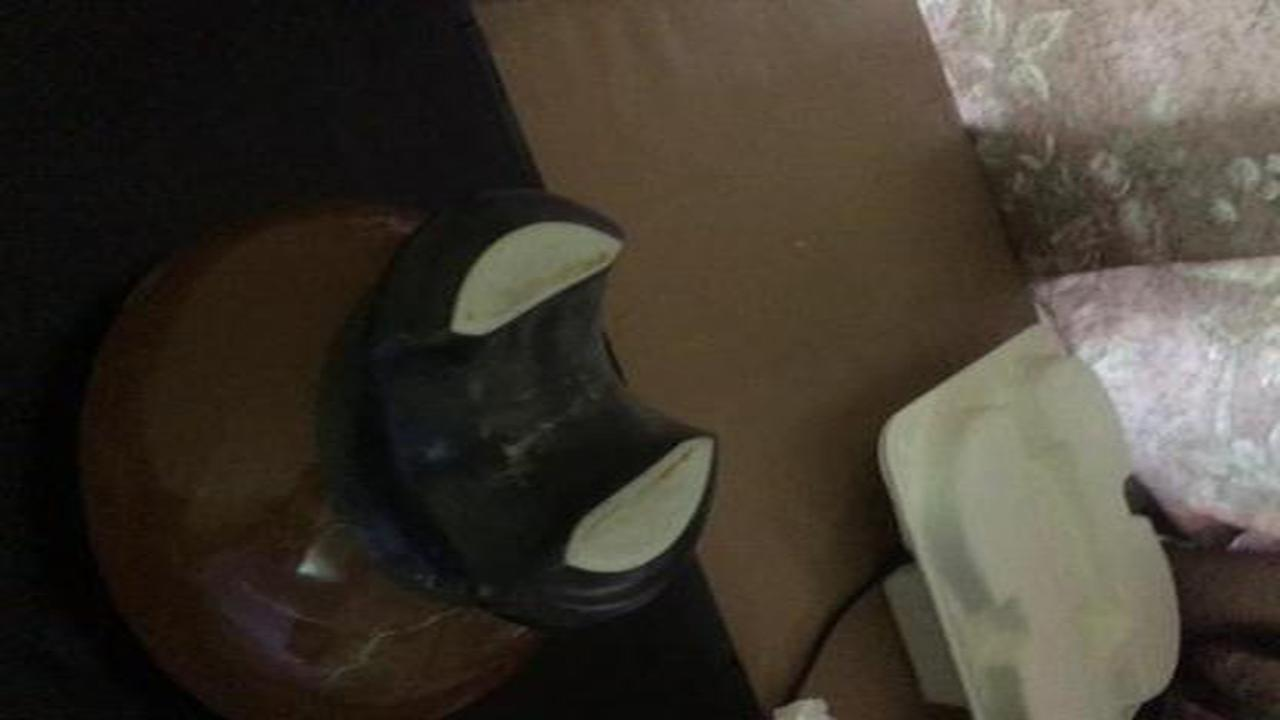insulator_pin: (44, 186, 742, 708)
